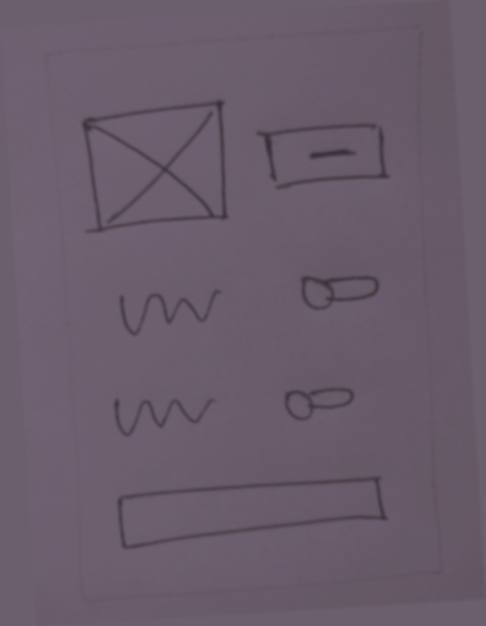button: (252, 115, 396, 195)
image: (74, 99, 236, 242)
switch: (289, 265, 388, 323), (274, 376, 360, 432)
text: (110, 282, 232, 340), (107, 386, 217, 445)
text_input: (110, 472, 393, 556)
